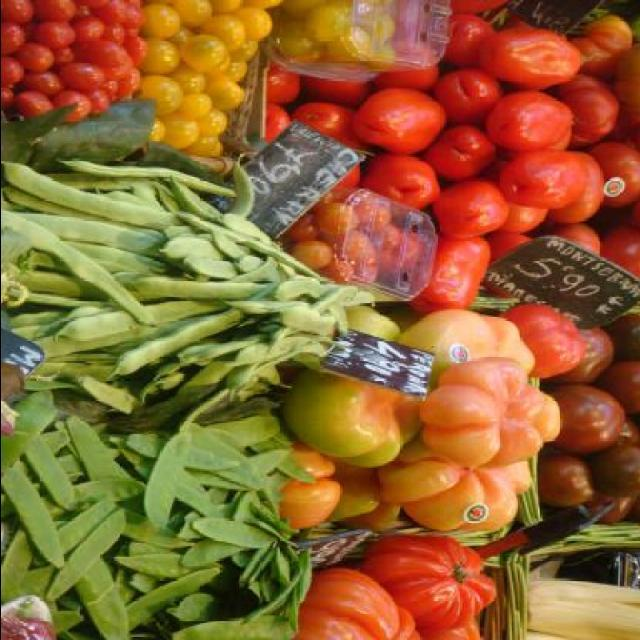Tomato: (263, 0, 640, 298), (286, 299, 562, 532), (0, 0, 148, 126), (356, 537, 494, 631), (300, 564, 417, 640), (364, 85, 466, 147)
